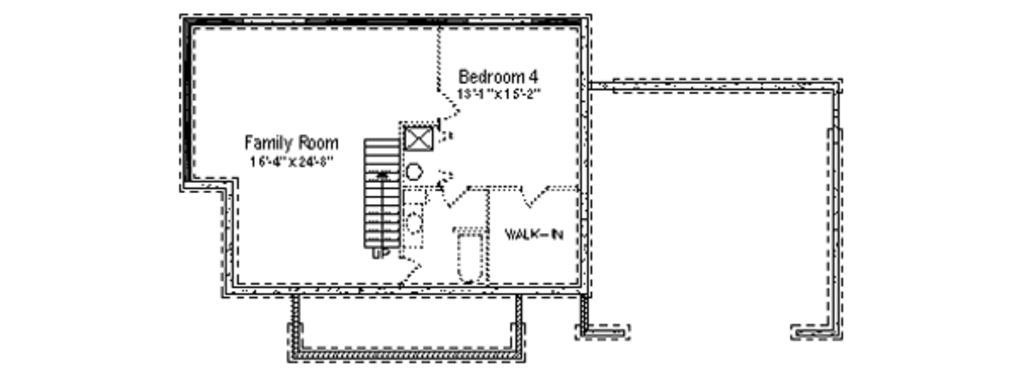stairs: (361, 136, 403, 265)
windows: (464, 11, 533, 30), (235, 15, 307, 27)
